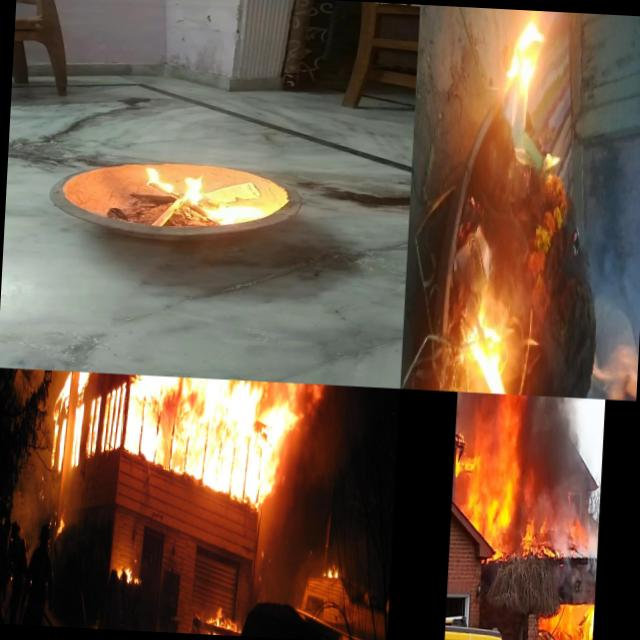fire: (52, 372, 346, 486), (449, 392, 530, 556), (125, 167, 288, 235), (440, 289, 530, 395), (494, 15, 554, 134), (111, 540, 147, 594), (523, 510, 558, 557), (193, 602, 241, 636), (316, 552, 344, 592), (568, 512, 590, 550), (581, 603, 594, 640), (78, 618, 110, 630)
smoke: (587, 126, 640, 398), (525, 396, 598, 513), (556, 550, 596, 592), (556, 512, 568, 549)
